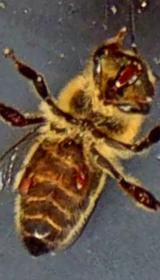varroa_mite: (15, 160, 44, 198), (64, 158, 92, 192)
